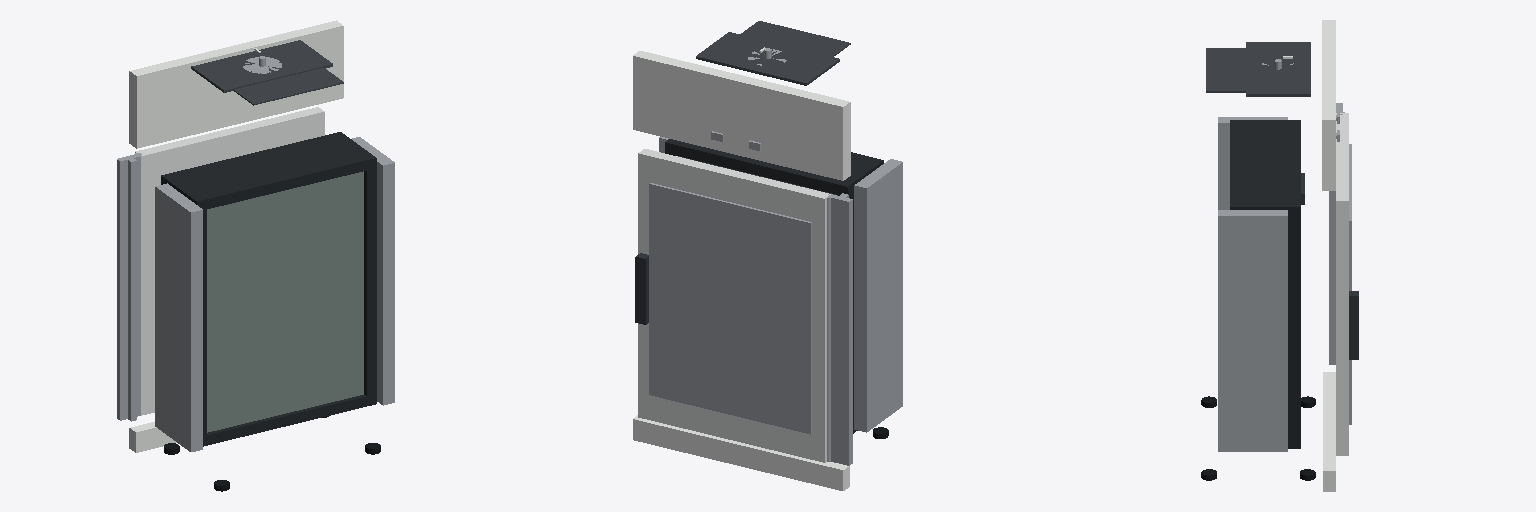
The robot description file, URDF, robot "boxy_air_purifier":
<robot name="boxy_air_purifier">
  <material name="shell_white">
    <color rgba="0.93 0.94 0.93 1" />
    </material>
  <material name="door_white">
    <color rgba="0.9 0.91 0.91 1" />
    </material>
  <material name="control_dark">
    <color rgba="0.24 0.26 0.28 1" />
    </material>
  <material name="trim_grey">
    <color rgba="0.67 0.69 0.71 1" />
    </material>
  <material name="filter_frame">
    <color rgba="0.19 0.21 0.22 1" />
    </material>
  <material name="filter_media">
    <color rgba="0.5 0.56 0.54 1" />
    </material>
  <material name="rubber_dark">
    <color rgba="0.13 0.14 0.15 1" />
    </material>
  <material name="vent_dark">
    <color rgba="0.3 0.32 0.34 1" />
    </material>
  <link name="housing">
    <visual name="shell">
      <origin xyz="0 0 0.29" rpy="0 0 0" />
      <geometry>
        <mesh filename="assets/meshes/purifier_shell.obj" />
        </geometry>
      <material name="shell_white">
        <color rgba="0.93 0.94 0.93 1" />
        </material>
      </visual>
    <visual name="front_fascia">
      <origin xyz="0 0.1 0.525" rpy="0 0 0" />
      <geometry>
        <box size="0.334 0.02 0.112" />
        </geometry>
      <material name="shell_white">
        <color rgba="0.93 0.94 0.93 1" />
        </material>
      </visual>
    <visual name="front_sill">
      <origin xyz="0 0.101 0.015" rpy="0 0 0" />
      <geometry>
        <box size="0.334 0.018 0.032" />
        </geometry>
      <material name="shell_white">
        <color rgba="0.93 0.94 0.93 1" />
        </material>
      </visual>
    <visual name="control_deck">
      <origin xyz="0 0.028 0.582" rpy="0 0 0" />
      <geometry>
        <box size="0.176 0.092 0.004" />
        </geometry>
      <material name="vent_dark">
        <color rgba="0.3 0.32 0.34 1" />
        </material>
      </visual>
    <visual name="dial_bezel">
      <origin xyz="0 0.028 0.582" rpy="0 0 0" />
      <geometry>
        <cylinder radius="0.028" length="0.004" />
        </geometry>
      <material name="trim_grey">
        <color rgba="0.67 0.69 0.71 1" />
        </material>
      </visual>
    <visual name="guide_rail_0">
      <origin xyz="-0.155 -0.008 0.245" rpy="0 0 0" />
      <geometry>
        <box size="0.02 0.1 0.37" />
        </geometry>
      <material name="trim_grey">
        <color rgba="0.67 0.69 0.71 1" />
        </material>
      </visual>
    <visual name="guide_rail_1">
      <origin xyz="0.155 -0.008 0.245" rpy="0 0 0" />
      <geometry>
        <box size="0.02 0.1 0.37" />
        </geometry>
      <material name="trim_grey">
        <color rgba="0.67 0.69 0.71 1" />
        </material>
      </visual>
    <visual name="hinge_jamb">
      <origin xyz="-0.165 0.105 0.245" rpy="0 0 0" />
      <geometry>
        <box size="0.01 0.01 0.4" />
        </geometry>
      <material name="trim_grey">
        <color rgba="0.67 0.69 0.71 1" />
        </material>
      </visual>
    <visual name="top_vent_panel">
      <origin xyz="0 -0.038 0.581" rpy="0 0 0" />
      <geometry>
        <box size="0.146 0.072 0.002" />
        </geometry>
      <material name="vent_dark">
        <color rgba="0.3 0.32 0.34 1" />
        </material>
      </visual>
    <visual name="foot_0">
      <origin xyz="-0.122 -0.07 0.004" rpy="0 0 0" />
      <geometry>
        <cylinder radius="0.011" length="0.008" />
        </geometry>
      <material name="rubber_dark">
        <color rgba="0.13 0.14 0.15 1" />
        </material>
      </visual>
    <visual name="foot_1">
      <origin xyz="-0.122 0.07 0.004" rpy="0 0 0" />
      <geometry>
        <cylinder radius="0.011" length="0.008" />
        </geometry>
      <material name="rubber_dark">
        <color rgba="0.13 0.14 0.15 1" />
        </material>
      </visual>
    <visual name="foot_2">
      <origin xyz="0.122 -0.07 0.004" rpy="0 0 0" />
      <geometry>
        <cylinder radius="0.011" length="0.008" />
        </geometry>
      <material name="rubber_dark">
        <color rgba="0.13 0.14 0.15 1" />
        </material>
      </visual>
    <visual name="foot_3">
      <origin xyz="0.122 0.07 0.004" rpy="0 0 0" />
      <geometry>
        <cylinder radius="0.011" length="0.008" />
        </geometry>
      <material name="rubber_dark">
        <color rgba="0.13 0.14 0.15 1" />
        </material>
      </visual>
    <collision name="shell">
      <origin xyz="0 0 0.29" rpy="0 0 0" />
      <geometry>
        <mesh filename="assets/meshes/purifier_shell.obj" />
        </geometry>
      </collision>
    <collision name="front_fascia">
      <origin xyz="0 0.1 0.525" rpy="0 0 0" />
      <geometry>
        <box size="0.334 0.02 0.112" />
        </geometry>
      </collision>
    <collision name="front_sill">
      <origin xyz="0 0.101 0.015" rpy="0 0 0" />
      <geometry>
        <box size="0.334 0.018 0.032" />
        </geometry>
      </collision>
    <collision name="control_deck">
      <origin xyz="0 0.028 0.582" rpy="0 0 0" />
      <geometry>
        <box size="0.176 0.092 0.004" />
        </geometry>
      </collision>
    <collision name="dial_bezel">
      <origin xyz="0 0.028 0.582" rpy="0 0 0" />
      <geometry>
        <cylinder radius="0.028" length="0.004" />
        </geometry>
      </collision>
    <collision name="guide_rail_0">
      <origin xyz="-0.155 -0.008 0.245" rpy="0 0 0" />
      <geometry>
        <box size="0.02 0.1 0.37" />
        </geometry>
      </collision>
    <collision name="guide_rail_1">
      <origin xyz="0.155 -0.008 0.245" rpy="0 0 0" />
      <geometry>
        <box size="0.02 0.1 0.37" />
        </geometry>
      </collision>
    <collision name="hinge_jamb">
      <origin xyz="-0.165 0.105 0.245" rpy="0 0 0" />
      <geometry>
        <box size="0.01 0.01 0.4" />
        </geometry>
      </collision>
    <collision name="top_vent_panel">
      <origin xyz="0 -0.038 0.581" rpy="0 0 0" />
      <geometry>
        <box size="0.146 0.072 0.002" />
        </geometry>
      </collision>
    <collision name="foot_0">
      <origin xyz="-0.122 -0.07 0.004" rpy="0 0 0" />
      <geometry>
        <cylinder radius="0.011" length="0.008" />
        </geometry>
      </collision>
    <collision name="foot_1">
      <origin xyz="-0.122 0.07 0.004" rpy="0 0 0" />
      <geometry>
        <cylinder radius="0.011" length="0.008" />
        </geometry>
      </collision>
    <collision name="foot_2">
      <origin xyz="0.122 -0.07 0.004" rpy="0 0 0" />
      <geometry>
        <cylinder radius="0.011" length="0.008" />
        </geometry>
      </collision>
    <collision name="foot_3">
      <origin xyz="0.122 0.07 0.004" rpy="0 0 0" />
      <geometry>
        <cylinder radius="0.011" length="0.008" />
        </geometry>
      </collision>
    </link>
  <link name="door">
    <visual name="door_panel">
      <origin xyz="0.148 0 0.2" rpy="0 0 0" />
      <geometry>
        <box size="0.296 0.018 0.4" />
        </geometry>
      <material name="door_white">
        <color rgba="0.9 0.91 0.91 1" />
        </material>
      </visual>
    <visual name="door_inset">
      <origin xyz="0.148 0.011 0.2" rpy="0 0 0" />
      <geometry>
        <box size="0.256 0.004 0.32" />
        </geometry>
      <material name="trim_grey">
        <color rgba="0.67 0.69 0.71 1" />
        </material>
      </visual>
    <visual name="door_pull">
      <origin xyz="0.284 0.016 0.2" rpy="0 0 0" />
      <geometry>
        <box size="0.016 0.014 0.1" />
        </geometry>
      <material name="control_dark">
        <color rgba="0.24 0.26 0.28 1" />
        </material>
      </visual>
    <visual name="hinge_barrel">
      <origin xyz="0 -0.002 0.2" rpy="0 0 0" />
      <geometry>
        <cylinder radius="0.006" length="0.4" />
        </geometry>
      <material name="trim_grey">
        <color rgba="0.67 0.69 0.71 1" />
        </material>
      </visual>
    <visual name="hinge_leaf">
      <origin xyz="-0.017 -0.004 0.2" rpy="0 0 0" />
      <geometry>
        <box size="0.034 0.01 0.4" />
        </geometry>
      <material name="trim_grey">
        <color rgba="0.67 0.69 0.71 1" />
        </material>
      </visual>
    <collision name="door_panel">
      <origin xyz="0.148 0 0.2" rpy="0 0 0" />
      <geometry>
        <box size="0.296 0.018 0.4" />
        </geometry>
      </collision>
    <collision name="door_inset">
      <origin xyz="0.148 0.011 0.2" rpy="0 0 0" />
      <geometry>
        <box size="0.256 0.004 0.32" />
        </geometry>
      </collision>
    <collision name="door_pull">
      <origin xyz="0.284 0.016 0.2" rpy="0 0 0" />
      <geometry>
        <box size="0.016 0.014 0.1" />
        </geometry>
      </collision>
    <collision name="hinge_barrel">
      <origin xyz="0 -0.002 0.2" rpy="0 0 0" />
      <geometry>
        <cylinder radius="0.006" length="0.4" />
        </geometry>
      </collision>
    <collision name="hinge_leaf">
      <origin xyz="-0.017 -0.004 0.2" rpy="0 0 0" />
      <geometry>
        <box size="0.034 0.01 0.4" />
        </geometry>
      </collision>
    </link>
  <link name="filter_pack">
    <visual name="filter_side_0">
      <origin xyz="-0.137 -0.05 0.19" rpy="0 0 0" />
      <geometry>
        <box size="0.016 0.1 0.38" />
        </geometry>
      <material name="filter_frame">
        <color rgba="0.19 0.21 0.22 1" />
        </material>
      </visual>
    <visual name="filter_side_1">
      <origin xyz="0.137 -0.05 0.19" rpy="0 0 0" />
      <geometry>
        <box size="0.016 0.1 0.38" />
        </geometry>
      <material name="filter_frame">
        <color rgba="0.19 0.21 0.22 1" />
        </material>
      </visual>
    <visual name="filter_bottom">
      <origin xyz="0 -0.05 0.008" rpy="0 0 0" />
      <geometry>
        <box size="0.29 0.1 0.016" />
        </geometry>
      <material name="filter_frame">
        <color rgba="0.19 0.21 0.22 1" />
        </material>
      </visual>
    <visual name="filter_top">
      <origin xyz="0 -0.05 0.372" rpy="0 0 0" />
      <geometry>
        <box size="0.29 0.1 0.016" />
        </geometry>
      <material name="filter_frame">
        <color rgba="0.19 0.21 0.22 1" />
        </material>
      </visual>
    <visual name="filter_media">
      <origin xyz="0 -0.05 0.19" rpy="0 0 0" />
      <geometry>
        <box size="0.262 0.086 0.352" />
        </geometry>
      <material name="filter_media">
        <color rgba="0.5 0.56 0.54 1" />
        </material>
      </visual>
    <visual name="filter_pull">
      <origin xyz="0 -0.002 0.34" rpy="0 0 0" />
      <geometry>
        <box size="0.07 0.016 0.018" />
        </geometry>
      <material name="control_dark">
        <color rgba="0.24 0.26 0.28 1" />
        </material>
      </visual>
    <visual name="filter_pleat_0">
      <origin xyz="-0.084 -0.005 0.19" rpy="0 0 0" />
      <geometry>
        <box size="0.004 0.004 0.296" />
        </geometry>
      <material name="filter_frame">
        <color rgba="0.19 0.21 0.22 1" />
        </material>
      </visual>
    <visual name="filter_pleat_1">
      <origin xyz="-0.056 -0.005 0.19" rpy="0 0 0" />
      <geometry>
        <box size="0.004 0.004 0.296" />
        </geometry>
      <material name="filter_frame">
        <color rgba="0.19 0.21 0.22 1" />
        </material>
      </visual>
    <visual name="filter_pleat_2">
      <origin xyz="-0.028 -0.005 0.19" rpy="0 0 0" />
      <geometry>
        <box size="0.004 0.004 0.296" />
        </geometry>
      <material name="filter_frame">
        <color rgba="0.19 0.21 0.22 1" />
        </material>
      </visual>
    <visual name="filter_pleat_3">
      <origin xyz="0 -0.005 0.19" rpy="0 0 0" />
      <geometry>
        <box size="0.004 0.004 0.296" />
        </geometry>
      <material name="filter_frame">
        <color rgba="0.19 0.21 0.22 1" />
        </material>
      </visual>
    <visual name="filter_pleat_4">
      <origin xyz="0.028 -0.005 0.19" rpy="0 0 0" />
      <geometry>
        <box size="0.004 0.004 0.296" />
        </geometry>
      <material name="filter_frame">
        <color rgba="0.19 0.21 0.22 1" />
        </material>
      </visual>
    <visual name="filter_pleat_5">
      <origin xyz="0.056 -0.005 0.19" rpy="0 0 0" />
      <geometry>
        <box size="0.004 0.004 0.296" />
        </geometry>
      <material name="filter_frame">
        <color rgba="0.19 0.21 0.22 1" />
        </material>
      </visual>
    <visual name="filter_pleat_6">
      <origin xyz="0.084 -0.005 0.19" rpy="0 0 0" />
      <geometry>
        <box size="0.004 0.004 0.296" />
        </geometry>
      <material name="filter_frame">
        <color rgba="0.19 0.21 0.22 1" />
        </material>
      </visual>
    <collision name="filter_side_0">
      <origin xyz="-0.137 -0.05 0.19" rpy="0 0 0" />
      <geometry>
        <box size="0.016 0.1 0.38" />
        </geometry>
      </collision>
    <collision name="filter_side_1">
      <origin xyz="0.137 -0.05 0.19" rpy="0 0 0" />
      <geometry>
        <box size="0.016 0.1 0.38" />
        </geometry>
      </collision>
    <collision name="filter_bottom">
      <origin xyz="0 -0.05 0.008" rpy="0 0 0" />
      <geometry>
        <box size="0.29 0.1 0.016" />
        </geometry>
      </collision>
    <collision name="filter_top">
      <origin xyz="0 -0.05 0.372" rpy="0 0 0" />
      <geometry>
        <box size="0.29 0.1 0.016" />
        </geometry>
      </collision>
    <collision name="filter_media">
      <origin xyz="0 -0.05 0.19" rpy="0 0 0" />
      <geometry>
        <box size="0.262 0.086 0.352" />
        </geometry>
      </collision>
    <collision name="filter_pull">
      <origin xyz="0 -0.002 0.34" rpy="0 0 0" />
      <geometry>
        <box size="0.07 0.016 0.018" />
        </geometry>
      </collision>
    <collision name="filter_pleat_0">
      <origin xyz="-0.084 -0.005 0.19" rpy="0 0 0" />
      <geometry>
        <box size="0.004 0.004 0.296" />
        </geometry>
      </collision>
    <collision name="filter_pleat_1">
      <origin xyz="-0.056 -0.005 0.19" rpy="0 0 0" />
      <geometry>
        <box size="0.004 0.004 0.296" />
        </geometry>
      </collision>
    <collision name="filter_pleat_2">
      <origin xyz="-0.028 -0.005 0.19" rpy="0 0 0" />
      <geometry>
        <box size="0.004 0.004 0.296" />
        </geometry>
      </collision>
    <collision name="filter_pleat_3">
      <origin xyz="0 -0.005 0.19" rpy="0 0 0" />
      <geometry>
        <box size="0.004 0.004 0.296" />
        </geometry>
      </collision>
    <collision name="filter_pleat_4">
      <origin xyz="0.028 -0.005 0.19" rpy="0 0 0" />
      <geometry>
        <box size="0.004 0.004 0.296" />
        </geometry>
      </collision>
    <collision name="filter_pleat_5">
      <origin xyz="0.056 -0.005 0.19" rpy="0 0 0" />
      <geometry>
        <box size="0.004 0.004 0.296" />
        </geometry>
      </collision>
    <collision name="filter_pleat_6">
      <origin xyz="0.084 -0.005 0.19" rpy="0 0 0" />
      <geometry>
        <box size="0.004 0.004 0.296" />
        </geometry>
      </collision>
    </link>
  <link name="dial">
    <visual name="dial_shaft">
      <origin xyz="0 0 0.006" rpy="0 0 0" />
      <geometry>
        <cylinder radius="0.005" length="0.012" />
        </geometry>
      <material name="trim_grey">
        <color rgba="0.67 0.69 0.71 1" />
        </material>
      </visual>
    <visual name="dial_cap">
      <geometry>
        <mesh filename="assets/meshes/purifier_dial_cap.obj" />
        </geometry>
      <material name="control_dark">
        <color rgba="0.24 0.26 0.28 1" />
        </material>
      </visual>
    <visual name="dial_indicator">
      <origin xyz="0 0.014 0.017" rpy="0 0 0" />
      <geometry>
        <box size="0.003 0.014 0.002" />
        </geometry>
      <material name="shell_white">
        <color rgba="0.93 0.94 0.93 1" />
        </material>
      </visual>
    <collision name="dial_shaft">
      <origin xyz="0 0 0.006" rpy="0 0 0" />
      <geometry>
        <cylinder radius="0.005" length="0.012" />
        </geometry>
      </collision>
    <collision name="dial_cap">
      <geometry>
        <mesh filename="assets/meshes/purifier_dial_cap.obj" />
        </geometry>
      </collision>
    <collision name="dial_indicator">
      <origin xyz="0 0.014 0.017" rpy="0 0 0" />
      <geometry>
        <box size="0.003 0.014 0.002" />
        </geometry>
      </collision>
    </link>
  <link name="button_0">
    <visual name="button_cap">
      <geometry>
        <box size="0.018 0.004 0.011" />
        </geometry>
      <material name="trim_grey">
        <color rgba="0.67 0.69 0.71 1" />
        </material>
      </visual>
    <visual name="button_stem">
      <origin xyz="0 -0.002 0" rpy="0 0 0" />
      <geometry>
        <box size="0.01 0.004 0.006" />
        </geometry>
      <material name="trim_grey">
        <color rgba="0.67 0.69 0.71 1" />
        </material>
      </visual>
    <collision name="button_cap">
      <geometry>
        <box size="0.018 0.004 0.011" />
        </geometry>
      </collision>
    <collision name="button_stem">
      <origin xyz="0 -0.002 0" rpy="0 0 0" />
      <geometry>
        <box size="0.01 0.004 0.006" />
        </geometry>
      </collision>
    </link>
  <link name="button_1">
    <visual name="button_cap">
      <geometry>
        <box size="0.018 0.004 0.011" />
        </geometry>
      <material name="trim_grey">
        <color rgba="0.67 0.69 0.71 1" />
        </material>
      </visual>
    <visual name="button_stem">
      <origin xyz="0 -0.002 0" rpy="0 0 0" />
      <geometry>
        <box size="0.01 0.004 0.006" />
        </geometry>
      <material name="trim_grey">
        <color rgba="0.67 0.69 0.71 1" />
        </material>
      </visual>
    <collision name="button_cap">
      <geometry>
        <box size="0.018 0.004 0.011" />
        </geometry>
      </collision>
    <collision name="button_stem">
      <origin xyz="0 -0.002 0" rpy="0 0 0" />
      <geometry>
        <box size="0.01 0.004 0.006" />
        </geometry>
      </collision>
    </link>
  <joint name="housing_to_door" type="revolute">
    <origin xyz="-0.148 0.119 0.045" rpy="0 0 0" />
    <parent link="housing" />
    <child link="door" />
    <axis xyz="0 0 1" />
    <limit effort="12" velocity="1.8" lower="0" upper="1.35" />
    </joint>
  <joint name="housing_to_filter_pack" type="prismatic">
    <origin xyz="0 0.06 0.055" rpy="0 0 0" />
    <parent link="housing" />
    <child link="filter_pack" />
    <axis xyz="0 1 0" />
    <limit effort="25" velocity="0.2" lower="0" upper="0.07" />
    </joint>
  <joint name="housing_to_dial" type="continuous">
    <origin xyz="0 0.028 0.584" rpy="0 0 0" />
    <parent link="housing" />
    <child link="dial" />
    <axis xyz="0 0 1" />
    <limit effort="0.3" velocity="8" />
    </joint>
  <joint name="housing_to_button_0" type="prismatic">
    <origin xyz="-0.03 0.114 0.492" rpy="0 0 0" />
    <parent link="housing" />
    <child link="button_0" />
    <axis xyz="0 -1 0" />
    <limit effort="6" velocity="0.05" lower="0" upper="0.002" />
    </joint>
  <joint name="housing_to_button_1" type="prismatic">
    <origin xyz="0.03 0.114 0.492" rpy="0 0 0" />
    <parent link="housing" />
    <child link="button_1" />
    <axis xyz="0 -1 0" />
    <limit effort="6" velocity="0.05" lower="0" upper="0.002" />
    </joint>
  </robot>

--- Render facts (derived) ---
Views: 3 orthographic renders of the robot side by side, from view 1: azimuth 30°, elevation 25°; view 2: azimuth 150°, elevation 25°; view 3: azimuth 270°, elevation 25°.
Robot: boxy_air_purifier — 6 links, 5 joints (1 revolute, 1 continuous, 3 prismatic); root link housing; default pose: every joint at zero.
Links seen in each view (by area): view 1: filter_pack, housing, door; view 2: door, housing, filter_pack; view 3: housing, filter_pack, door.
Boxes of the visible links, x1,y1,x2,y2 form: filter_pack: (161,132,376,446); housing: (128,20,394,491); door: (117,107,324,420); door: (635,149,852,465); housing: (633,21,902,490); filter_pack: (665,139,883,433); housing: (1201,20,1335,491); filter_pack: (1230,120,1304,448); door: (1336,103,1358,455).
Size in the robot's own frame: 0.349 by 0.223 by 0.603 metres.
0 mesh visuals loaded from 2 distinct referenced files (none loaded); not drawn: 2 (reference not matched to a file when rendering).
